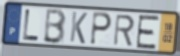B: (42, 8, 67, 46)
E: (135, 15, 161, 51)
K: (69, 10, 89, 46)
L: (22, 8, 41, 42)
P: (89, 11, 113, 47)
R: (112, 14, 136, 48)
